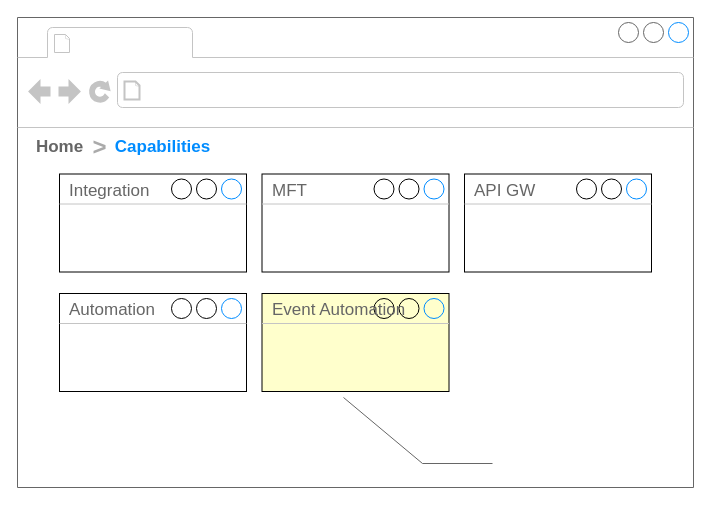
This 711x505 diagram has some shape labels left out. Here are the shapes that lost their labels. From the top down, the box of each, then its label:
(76, 28, 218, 56): wM iPass
(146, 76, 398, 104): https://<tenant>.sag.cloud
(342, 396, 492, 464): From MCSP
